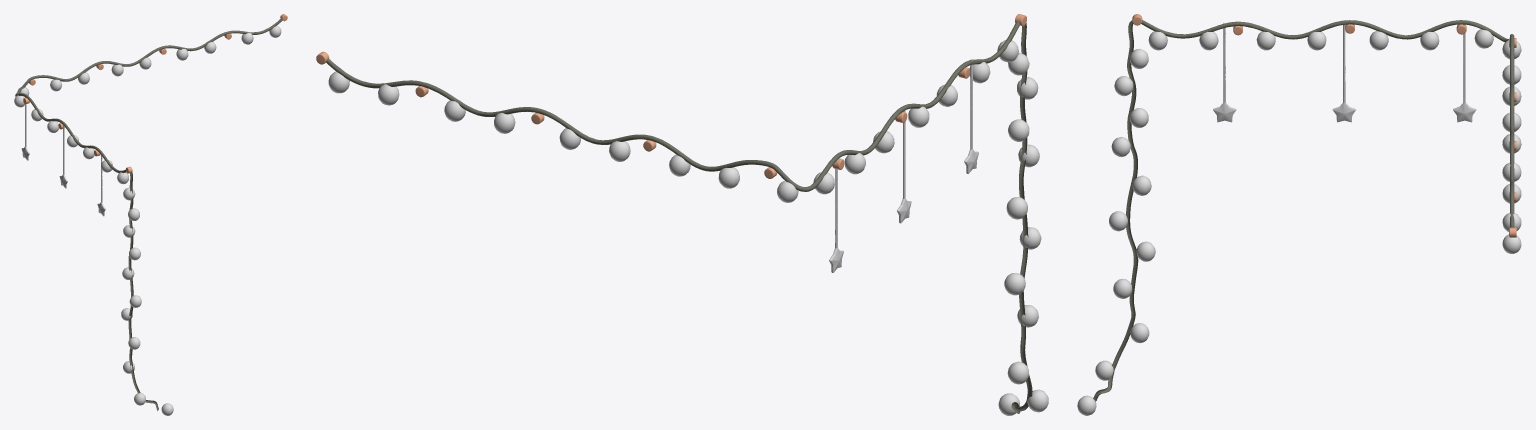
File: decorative_lights.glb
3 views of the same model, side by side, from view 1: azimuth 30°, elevation 25°; view 2: azimuth 150°, elevation 25°; view 3: azimuth 270°, elevation 25° (orthographic). The views are drawn at different scales.
Parts seen in each view (by area): view 1: Sphere, NurbsPath, Cylinder.017; view 2: Sphere, NurbsPath, Cylinder.017; view 3: Sphere, NurbsPath, Cylinder.017.
Boxes of the visible parts, bbox=[...] form: Sphere: bbox=[14, 26, 281, 415]; NurbsPath: bbox=[15, 18, 282, 410]; Cylinder.017: bbox=[23, 14, 287, 173]; Sphere: bbox=[328, 40, 1048, 415]; NurbsPath: bbox=[326, 22, 1032, 413]; Cylinder.017: bbox=[316, 14, 1026, 178]; Sphere: bbox=[1077, 29, 1521, 415]; NurbsPath: bbox=[1093, 20, 1514, 401]; Cylinder.017: bbox=[1132, 14, 1516, 237].
Bounding box in the file's own units: 7.89 × 6.49 × 6.83.
